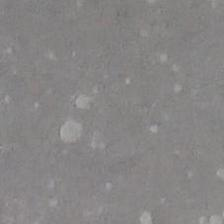Non_Crack: (42, 45, 210, 222)
